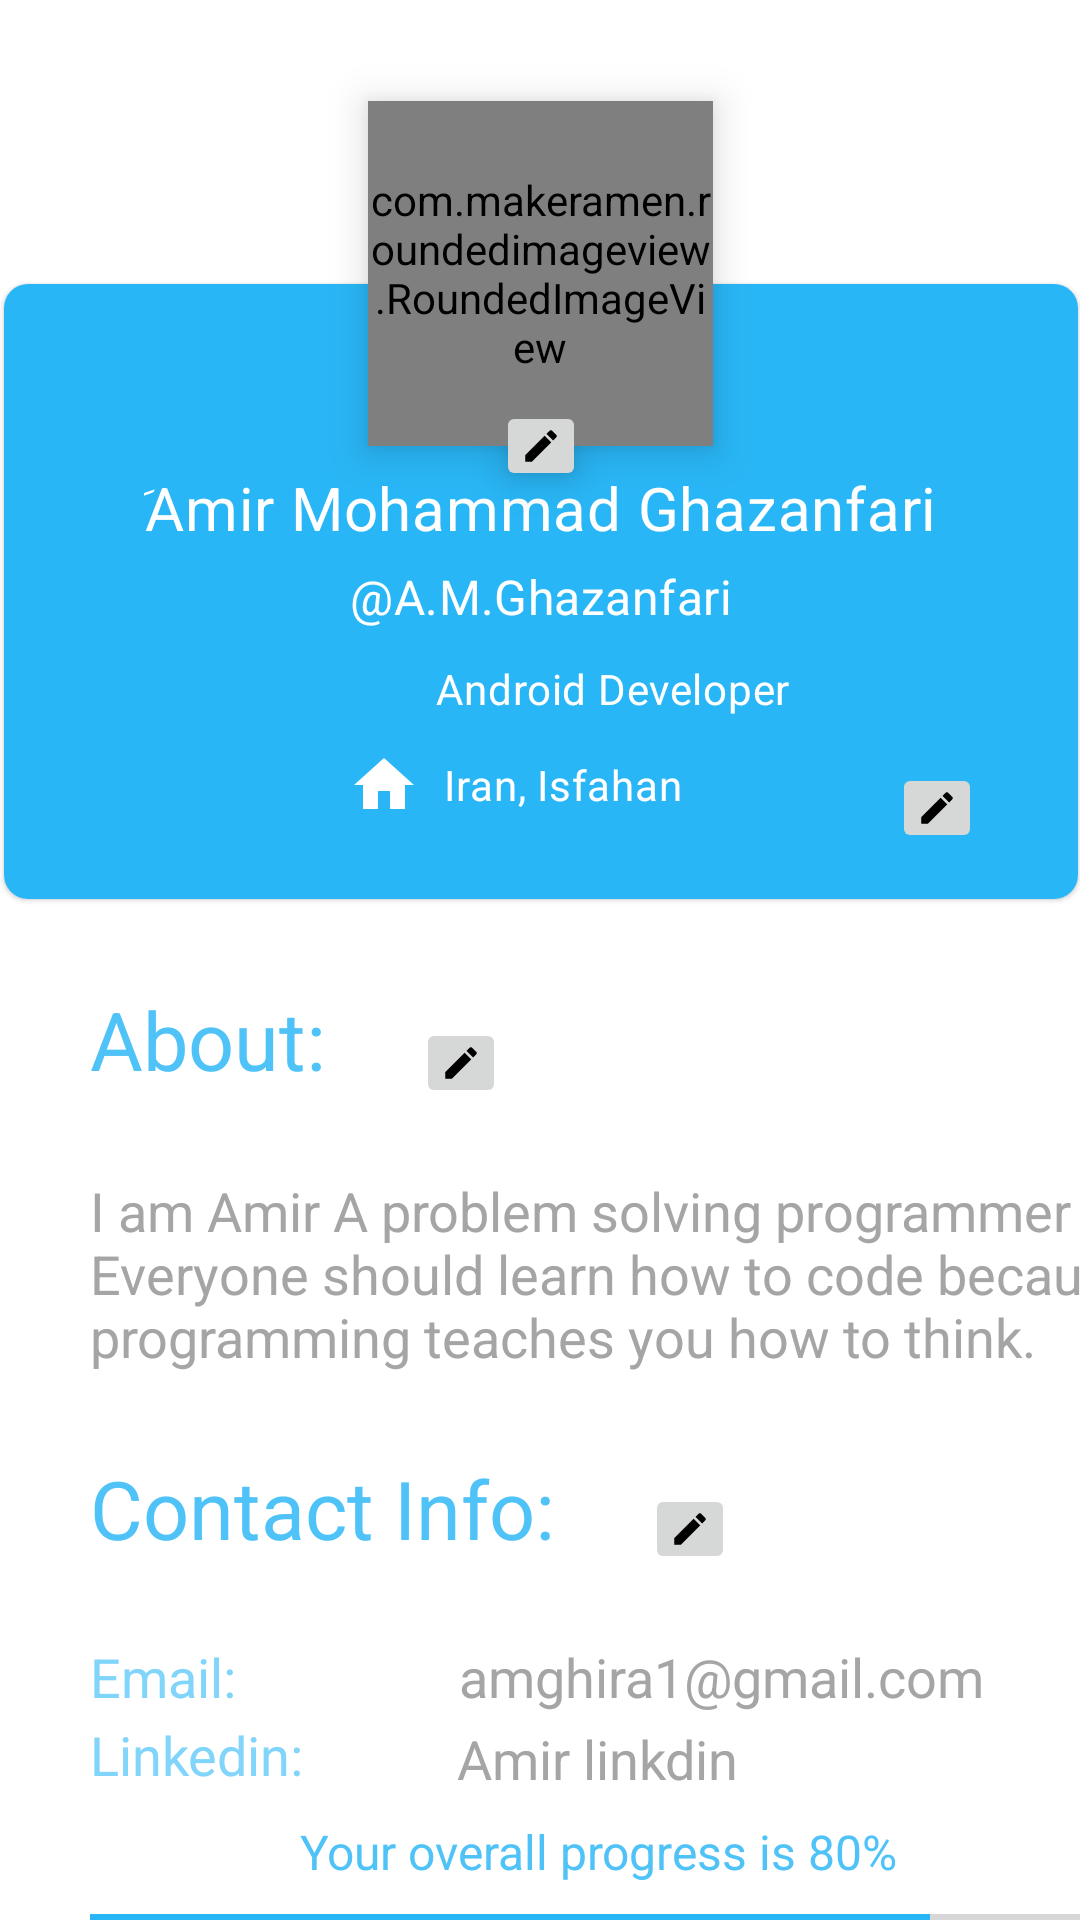

Icon click points for this 1080px×1920px phone screenshot, format (x=x, y=y):
home: (x=384, y=783)
